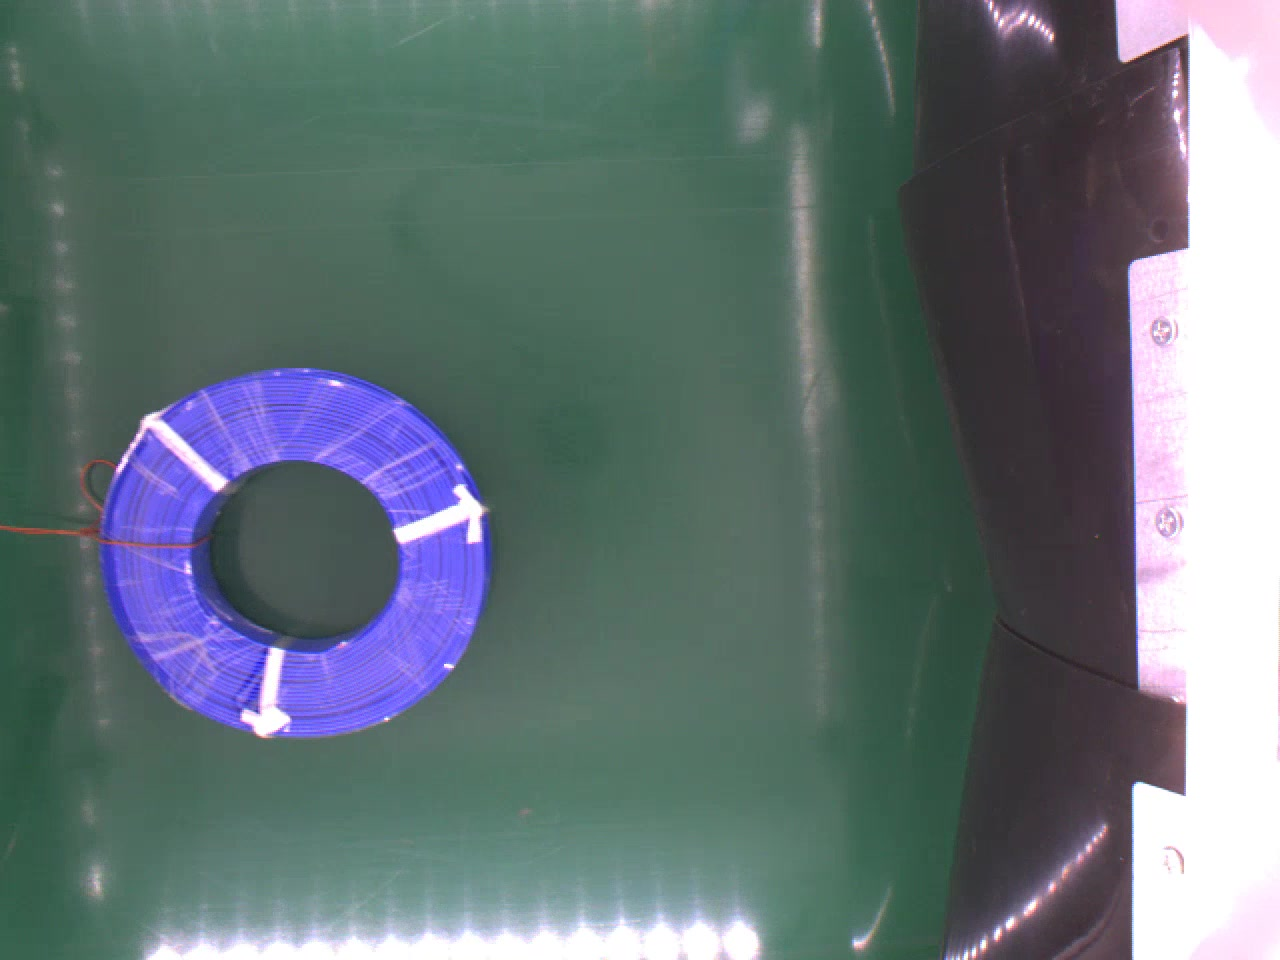blue: (100, 363, 493, 735)
